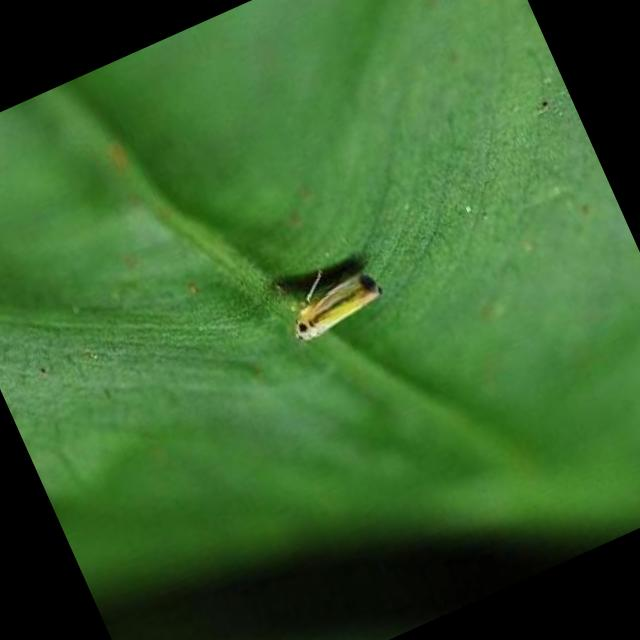green-leafhopper: (278, 260, 387, 356)
